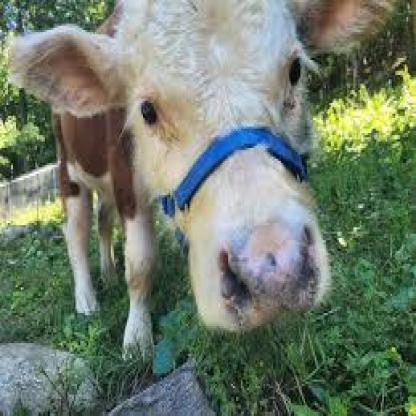cow: (7, 0, 394, 360)
